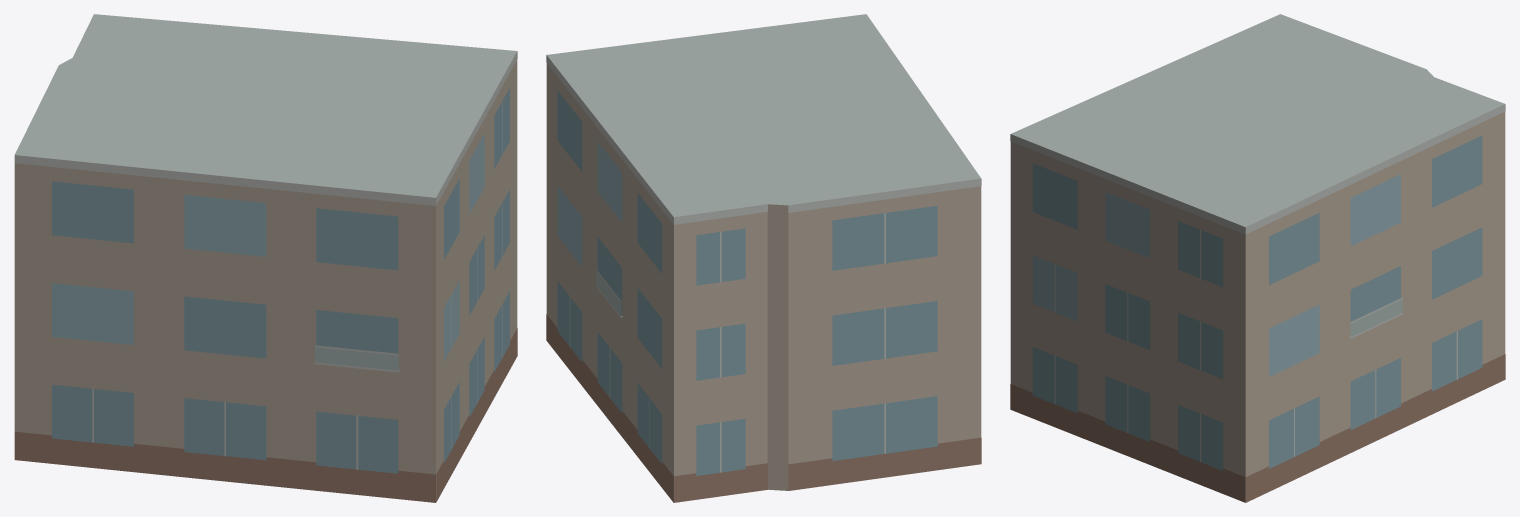
File: survey-upis-32780021.glb
The picture shows the model from 3 angles, left to right: view 1: azimuth 30°, elevation 25°; view 2: azimuth 150°, elevation 25°; view 3: azimuth 270°, elevation 25°; orthographic projection. The views are drawn at different scales.
Parts seen in each view (by area): view 1: survey-upis-32780021.tmp; view 2: survey-upis-32780021.tmp; view 3: survey-upis-32780021.tmp.
Part boxes in pixels (x1,y1,x2,y2): survey-upis-32780021.tmp: [14, 14, 517, 502]; survey-upis-32780021.tmp: [546, 14, 981, 502]; survey-upis-32780021.tmp: [1010, 14, 1505, 502].
Bounding box in the file's own units: 15.19 × 9.15 × 14.9.
